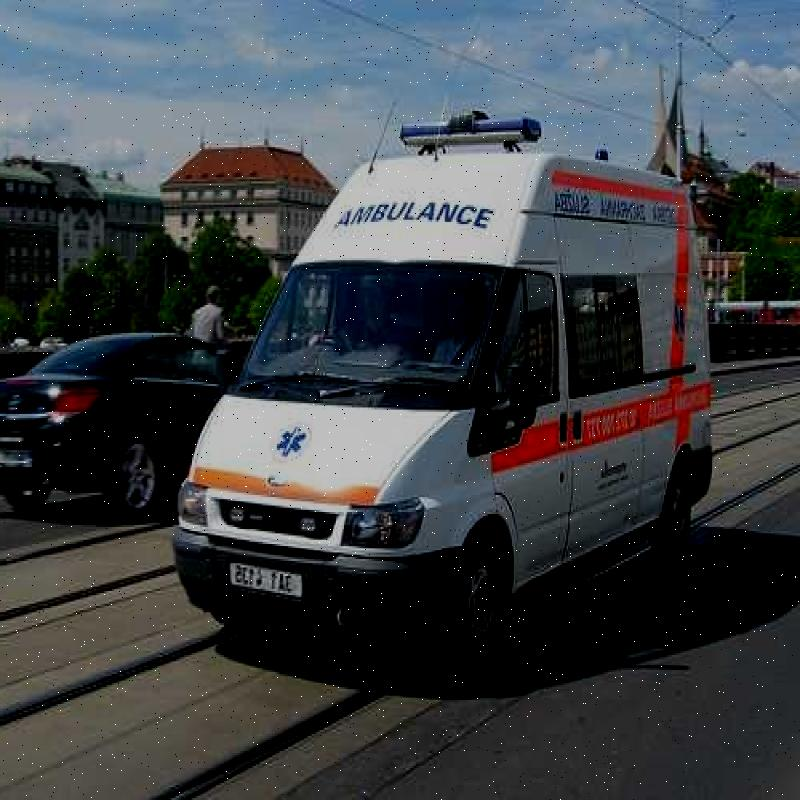AmbulanceSiren: (391, 89, 553, 154)
